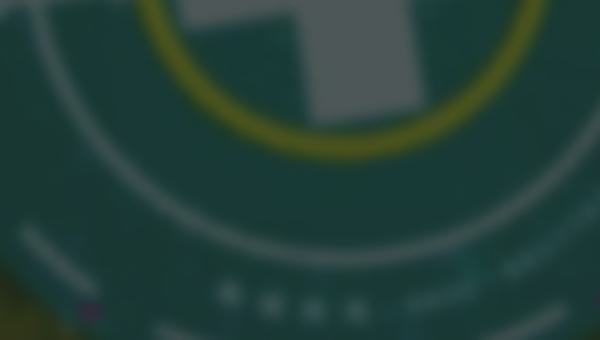Apron: (131, 1, 549, 164)
